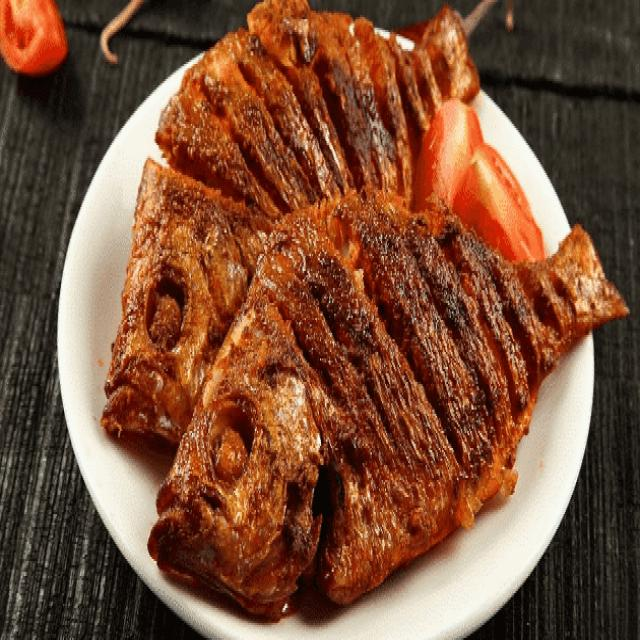Peixe: (145, 186, 630, 618), (153, 0, 481, 215)
